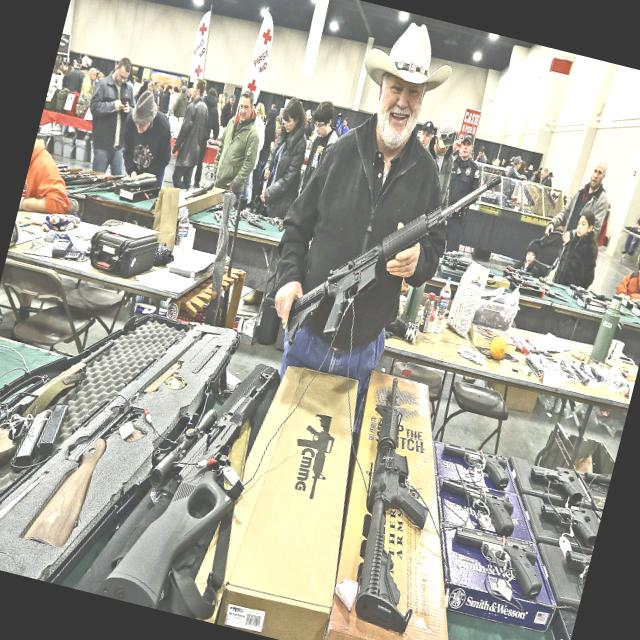handgun: (439, 524, 552, 606), (430, 474, 523, 542), (434, 432, 520, 492), (532, 496, 601, 549), (524, 458, 590, 508)
